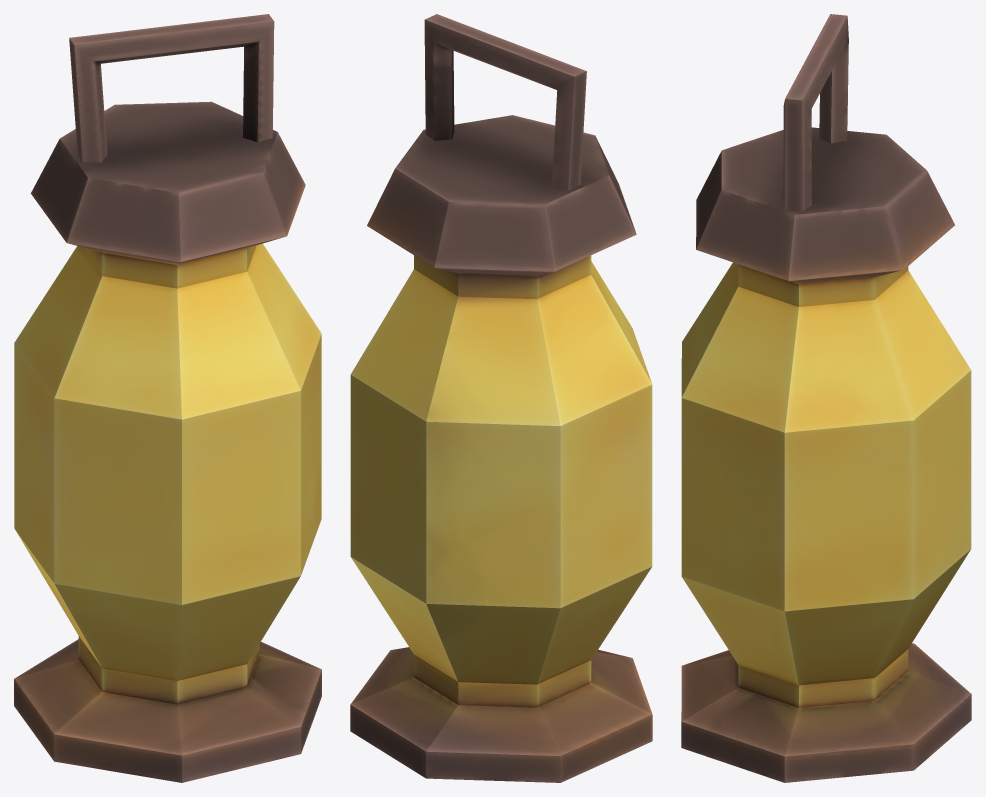
The model's file is Props_2.fbx.
The picture shows the model from 3 angles, left to right: view 1: azimuth 30°, elevation 25°; view 2: azimuth 150°, elevation 25°; view 3: azimuth 270°, elevation 25°; orthographic projection. The views are drawn at different scales.
Parts seen in each view (by area): view 1: Props_2; view 2: Props_2; view 3: Props_2.
Boxes of the visible parts, left/top/right/bottom form: Props_2: left=14, top=14, right=321, bottom=782; Props_2: left=350, top=14, right=652, bottom=782; Props_2: left=681, top=14, right=971, bottom=782.
Bounding box in the file's own units: 7.2 × 17.73 × 7.02.
